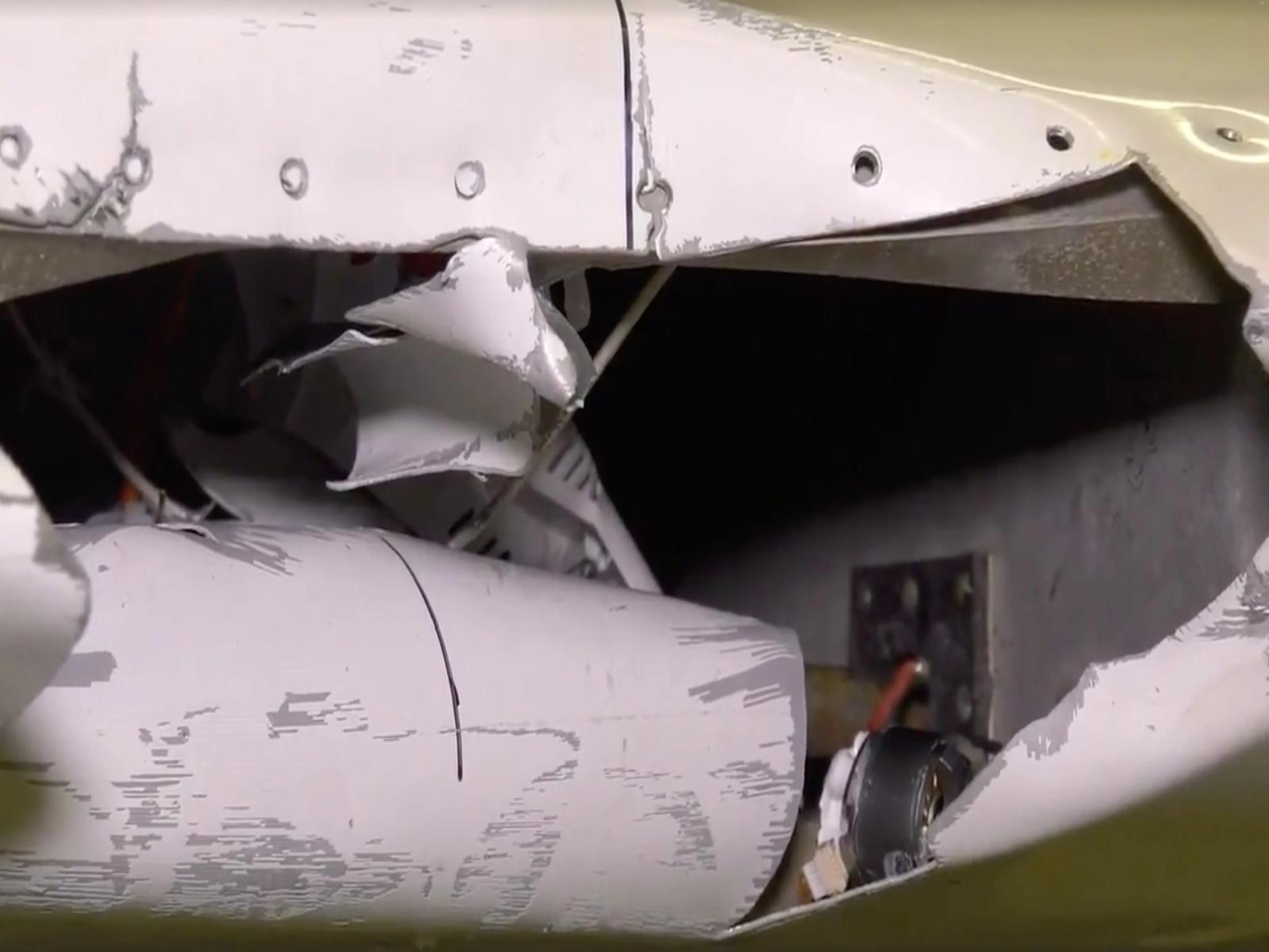Wing_damage: (0, 521, 806, 936), (929, 540, 1269, 866), (263, 235, 599, 410), (285, 337, 541, 490), (1131, 150, 1269, 370), (0, 52, 152, 233), (631, 17, 674, 258), (0, 127, 27, 164)
